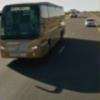buses: (0, 2, 65, 58)
